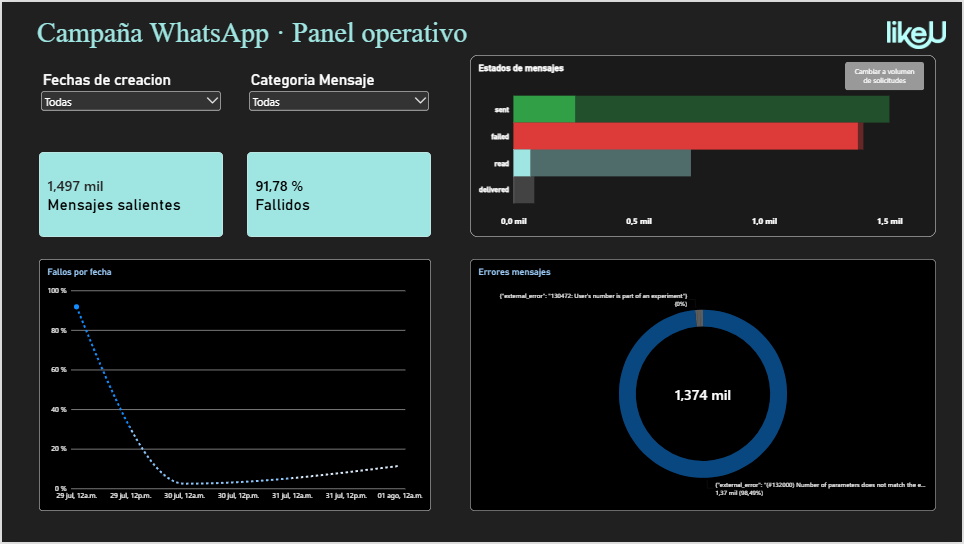

Layout of this report page (visuals, bound fields, positions):
{"tool":"powerbi","page":{"name":"Pagina Principal","canvas":[1920,1080],"ordinal":0},"visuals":[{"type":"textbox","box":[0,27.7,1020,73.3],"z":0},{"type":"image","box":[1738,38,182,56],"z":1000},{"type":"slicer","fields":{"Values":["mensajes.Fecha"]},"box":[74,138,368.3,125],"z":2000},{"type":"cardVisual","title":"Mensajes salientes","fields":{"Data":["mensajes.Mensajes salientes"]},"box":[74,300,368,170],"z":3000},{"type":"cardVisual","fields":{"Data":["mensajes.Failed"]},"box":[490,300,368,170],"z":4000},{"type":"slicer","fields":{"Values":["mensajes.message_type"]},"box":[490,138,368.3,125],"z":5000},{"type":"clusteredBarChart","title":"Estados de mensajes","fields":{"Category":["mensajes.status"],"Y":["CountNonNull(mensajes.status)"]},"box":[936,106,932,364],"z":6000},{"type":"lineChart","title":"Fallos por fecha","fields":{"Category":["mensajes.Fecha"],"Y":["mensajes.Failed"]},"box":[73.3,513.3,784,504],"z":8000},{"type":"donutChart","title":"Errores mensajes","fields":{"Category":["mensajes.content_attributes"],"Y":["CountNonNull(mensajes.Errores_Agrupados)"]},"box":[936,514,932,504],"z":9000},{"type":"actionButton","title":"Cambiar a Volumen de solicitudes","box":[1686.7,120,158.3,56.7],"z":10000}]}

Visuals, with their boxes in screenshot pixels (x1, y1, x2, y2), scaled from the page's 1920x1080 canvas onto the 964x544 screenshot:
textbox: <region>0, 14, 512, 51</region>
image: <region>873, 19, 963, 47</region>
slicer - mensajes.Fecha: <region>37, 70, 222, 132</region>
"Mensajes salientes" cardVisual: <region>37, 151, 222, 237</region>
cardVisual - mensajes.Failed: <region>246, 151, 431, 237</region>
slicer - mensajes.message_type: <region>246, 70, 431, 132</region>
"Estados de mensajes" clusteredBarChart: <region>470, 53, 938, 237</region>
"Fallos por fecha" lineChart: <region>37, 259, 430, 512</region>
"Errores mensajes" donutChart: <region>470, 259, 938, 513</region>
"Cambiar a Volumen de solicitudes" actionButton: <region>847, 60, 926, 89</region>
